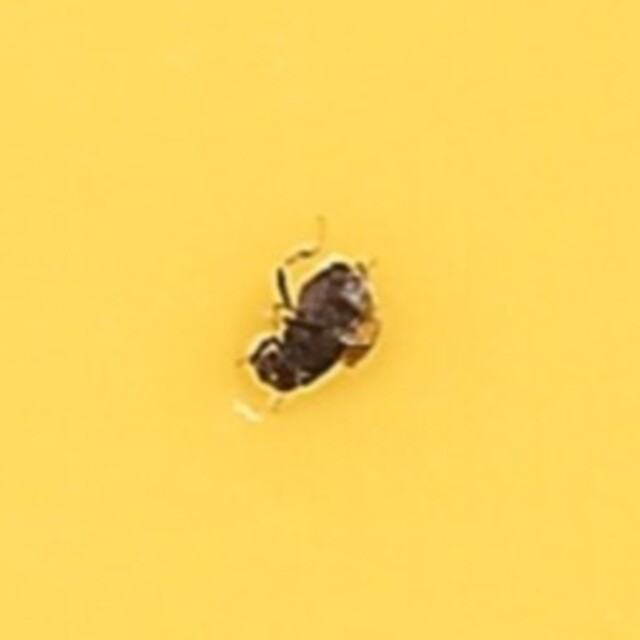Brachycera: (251, 242, 389, 398)
